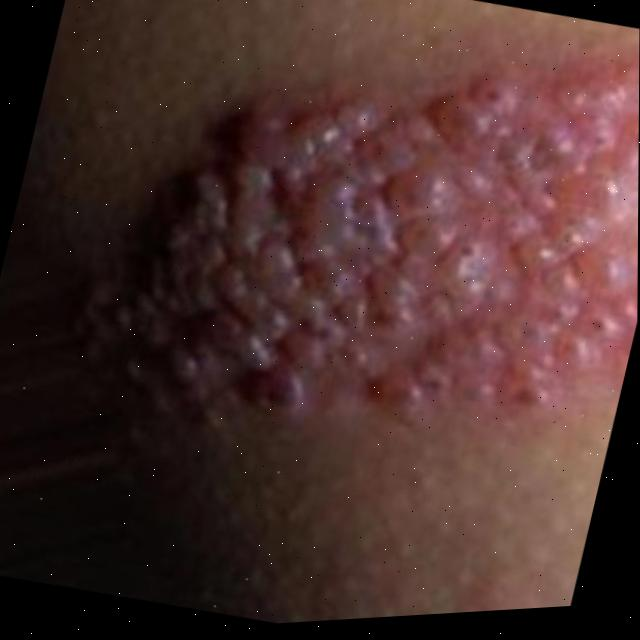Shingles: (62, 0, 640, 537)
